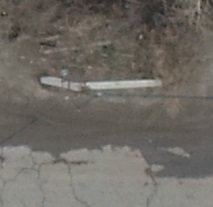opora: (38, 64, 165, 95)
